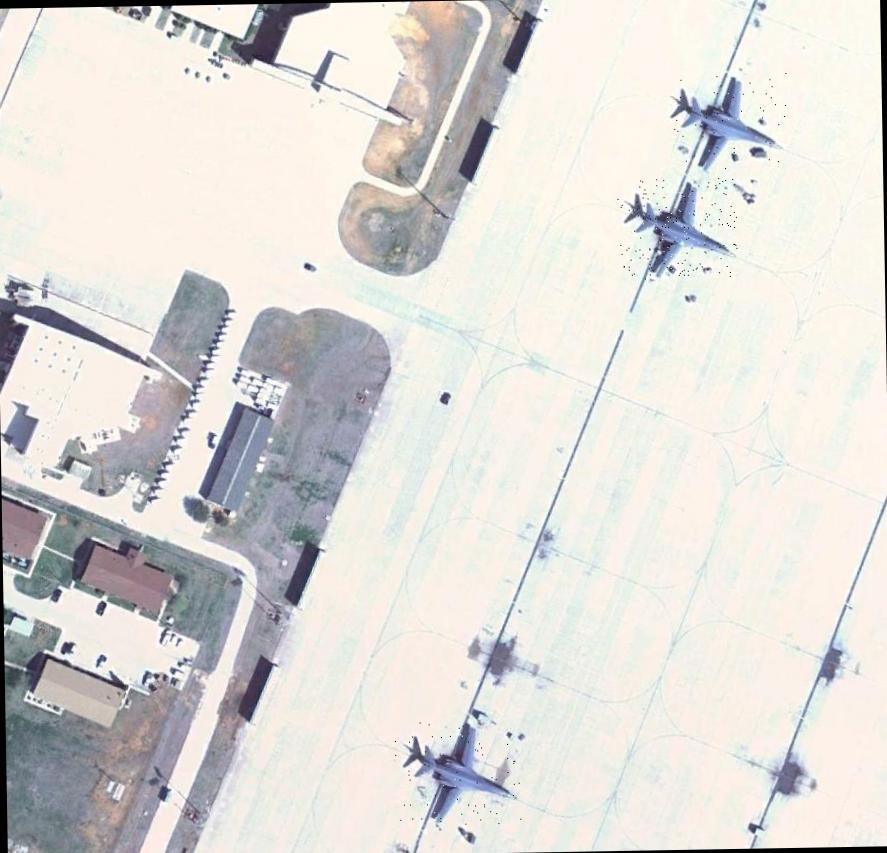A10: (393, 717, 525, 825), (616, 177, 738, 279), (672, 71, 788, 171)
